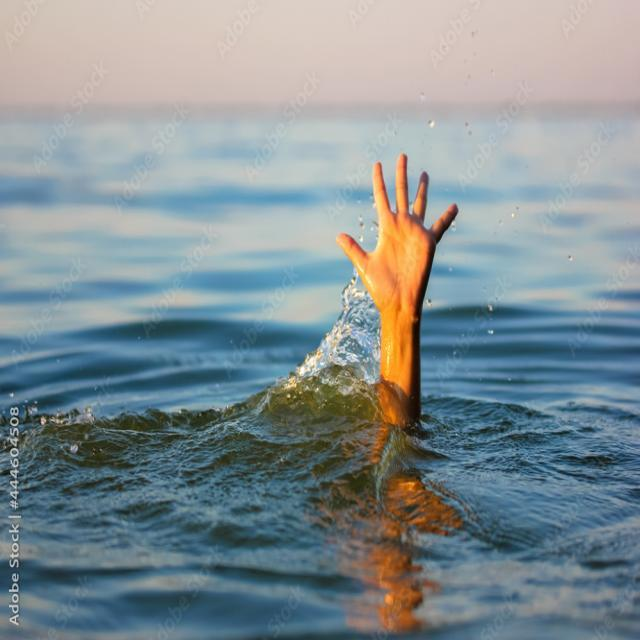swimming: (286, 128, 499, 557)
